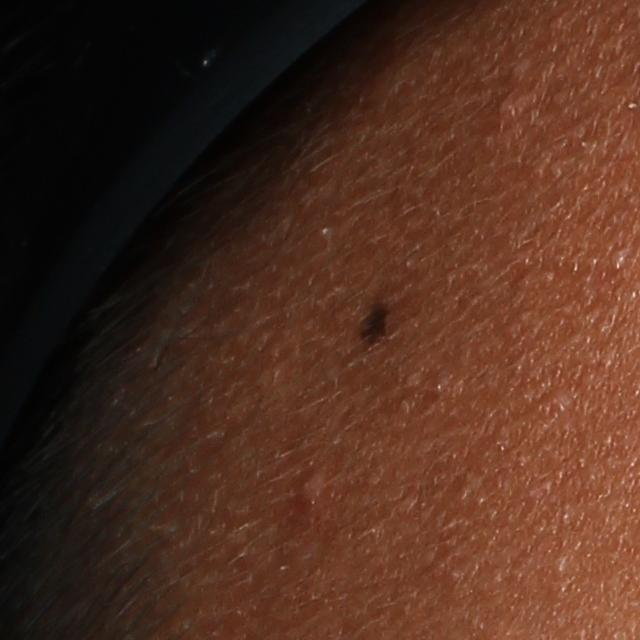comedo: (540, 386, 574, 413), (494, 91, 524, 121), (550, 557, 569, 579), (610, 246, 627, 270)
nevus: (356, 292, 398, 354)
